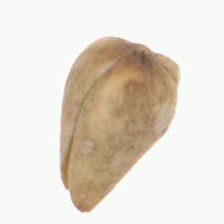L1: (111, 34, 164, 69), (59, 160, 92, 213)
L2: (59, 34, 180, 214)
